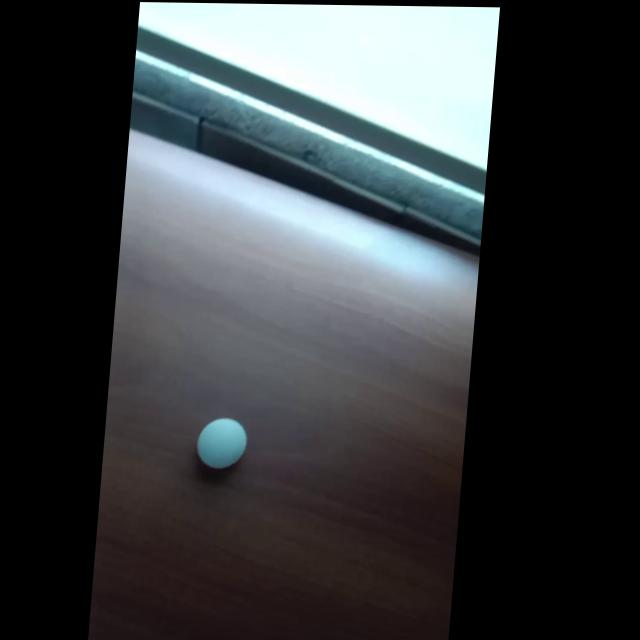white ball: (195, 417, 249, 470)
